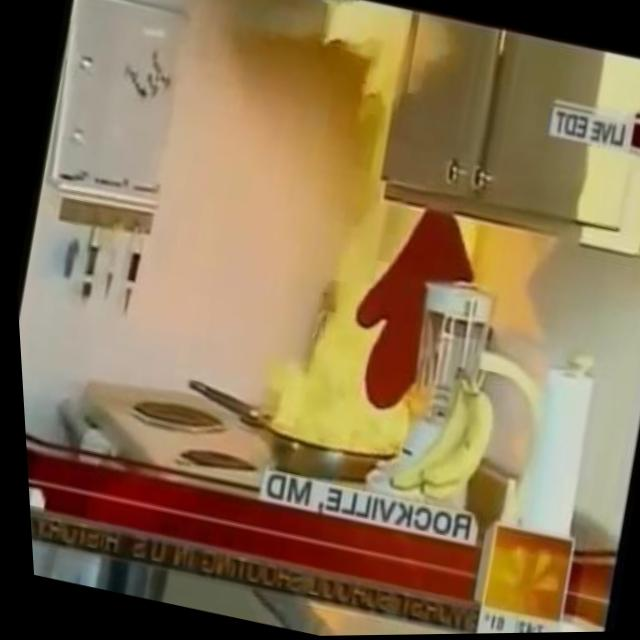fire: (226, 0, 494, 465)
